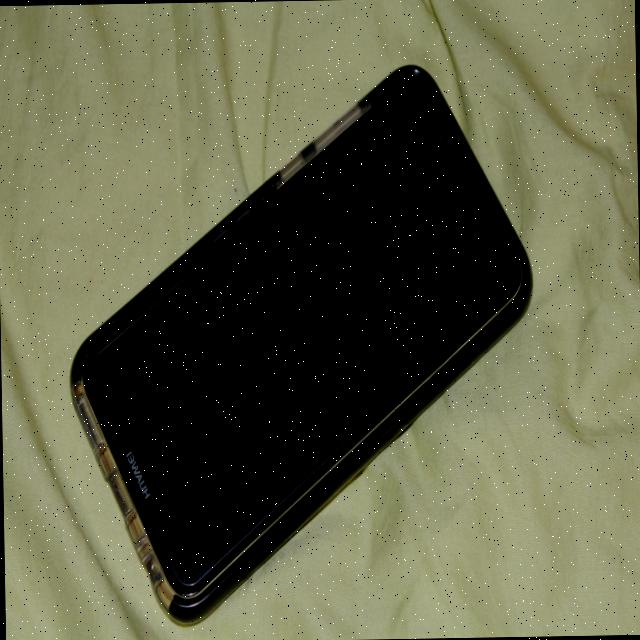Phone: (54, 60, 550, 632)
